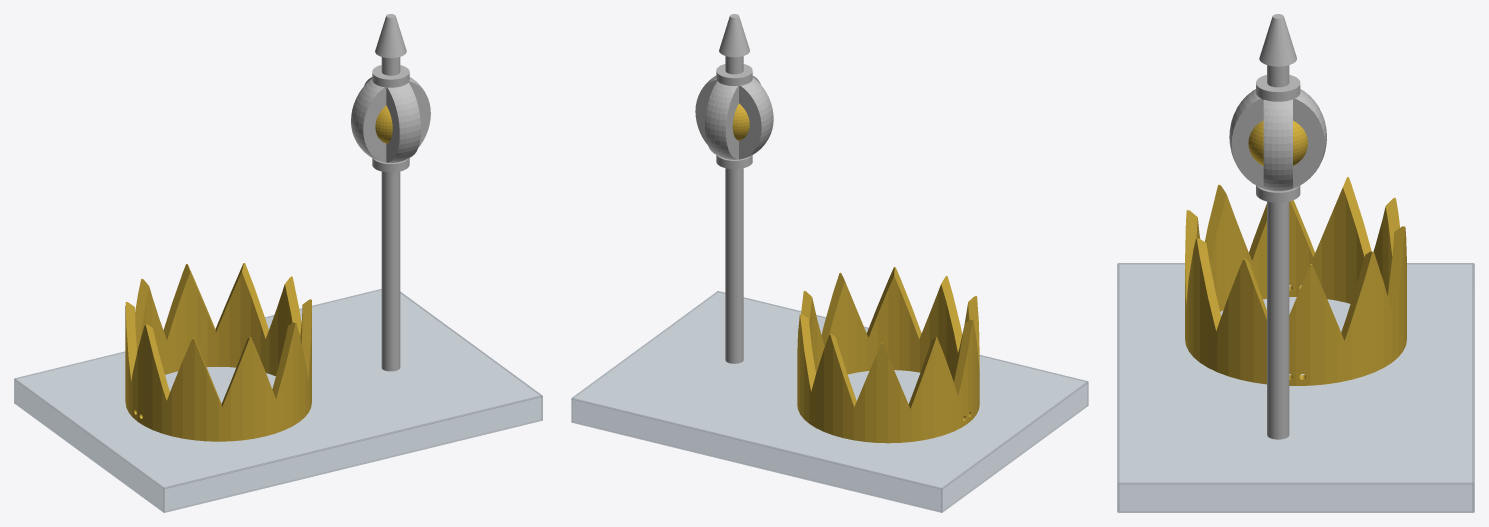
3 renders of one model, left to right at view 1: azimuth 30°, elevation 25°; view 2: azimuth 150°, elevation 25°; view 3: azimuth 270°, elevation 25°, orthographic. The views are drawn at different scales.
Parts seen in each view (by area): view 1: shelf (display prop, not printed), crown, scepter, shelf edges (display prop, not printed); view 2: shelf (display prop, not printed), crown, scepter, shelf edges (display prop, not printed); view 3: shelf (display prop, not printed), crown, scepter, shelf edges (display prop, not printed), scepter_ball.
Part boxes in pixels (bbox=[...]): shelf (display prop, not printed): bbox=[15, 290, 541, 511]; crown: bbox=[125, 263, 311, 441]; scepter: bbox=[351, 14, 430, 371]; shelf edges (display prop, not printed): bbox=[14, 289, 542, 512]; shelf (display prop, not printed): bbox=[572, 292, 1087, 511]; crown: bbox=[797, 267, 979, 443]; scepter: bbox=[695, 14, 773, 363]; shelf edges (display prop, not printed): bbox=[571, 291, 1088, 512]; shelf (display prop, not printed): bbox=[1118, 264, 1473, 511]; crown: bbox=[1185, 177, 1406, 385]; scepter: bbox=[1229, 14, 1326, 439]; shelf edges (display prop, not printed): bbox=[1117, 263, 1474, 512]; scepter_ball: bbox=[1248, 120, 1307, 165].
Size of the model in its own units: 235 by 222 by 161.
